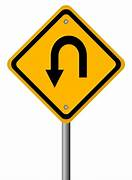back: (6, 5, 126, 123)
